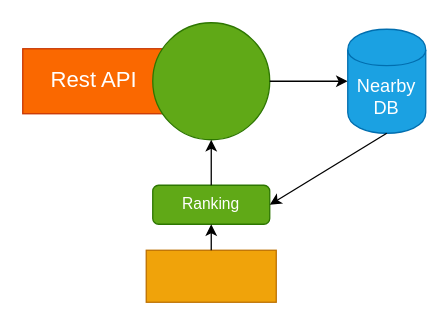
Some shapes in this 448 by 325 pixel diagram are drawn without their labels. The shapes that lost their labels are listed below. From the top down, each one's centre as x and y in pixels, then its label:
At point (210, 80): "Nearby service".
At point (210, 275): "Get Place API".
